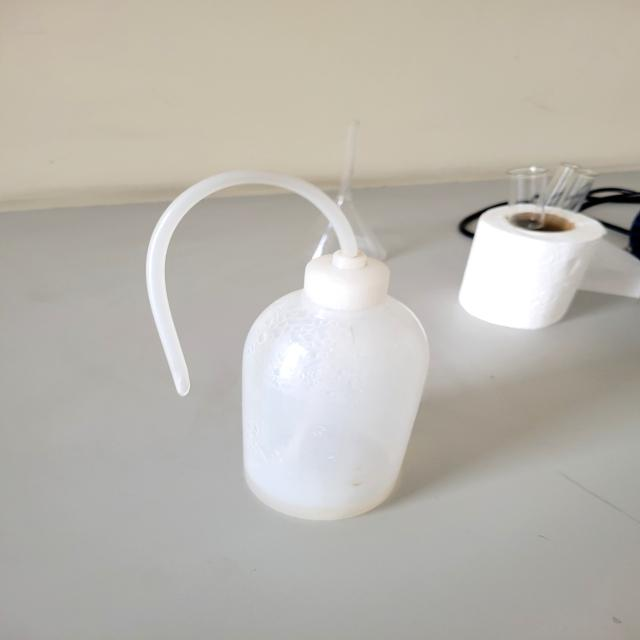Wash_Bottle: (113, 162, 456, 539)
